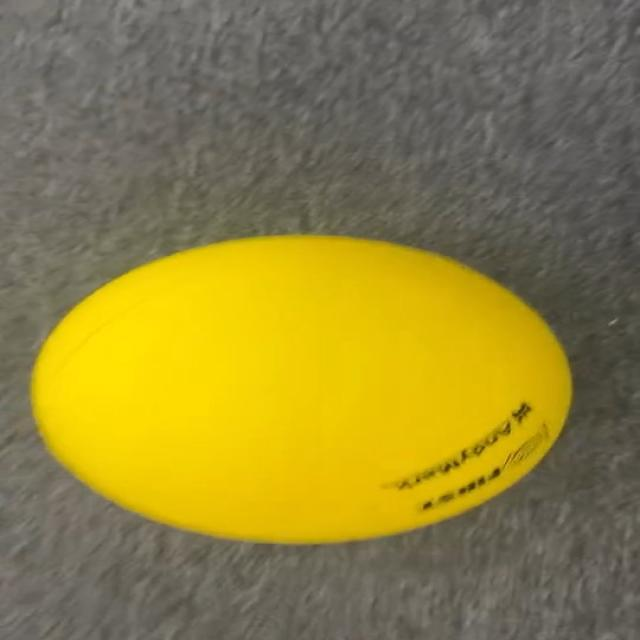Fuels: (31, 236, 572, 542)
